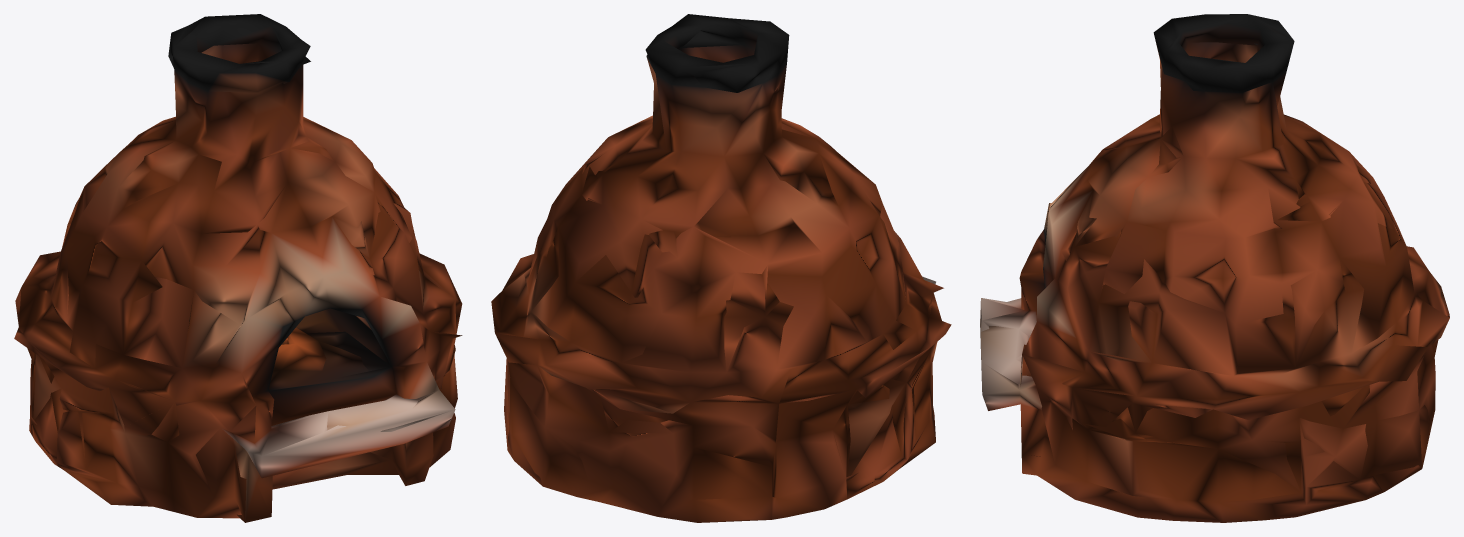
Rendered from gen3d-bread-oven-lod0.glb.
3 renders of one model, left to right at view 1: azimuth 30°, elevation 25°; view 2: azimuth 150°, elevation 25°; view 3: azimuth 270°, elevation 25°, orthographic.
Parts seen in each view (by area): view 1: part_0; view 2: part_0; view 3: part_0.
Boxes of the visible parts, x1=… form: part_0: x1=14, y1=14, x2=462, y2=522; part_0: x1=491, y1=14, x2=951, y2=522; part_0: x1=980, y1=14, x2=1449, y2=522.
Size of the model in its own units: 1.07 by 0.9985 by 1.08.
